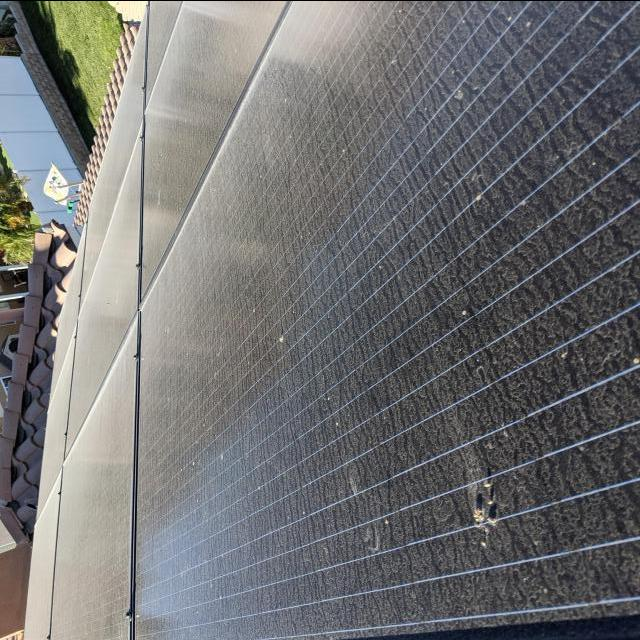soiled: (136, 1, 640, 636), (19, 70, 147, 638)
